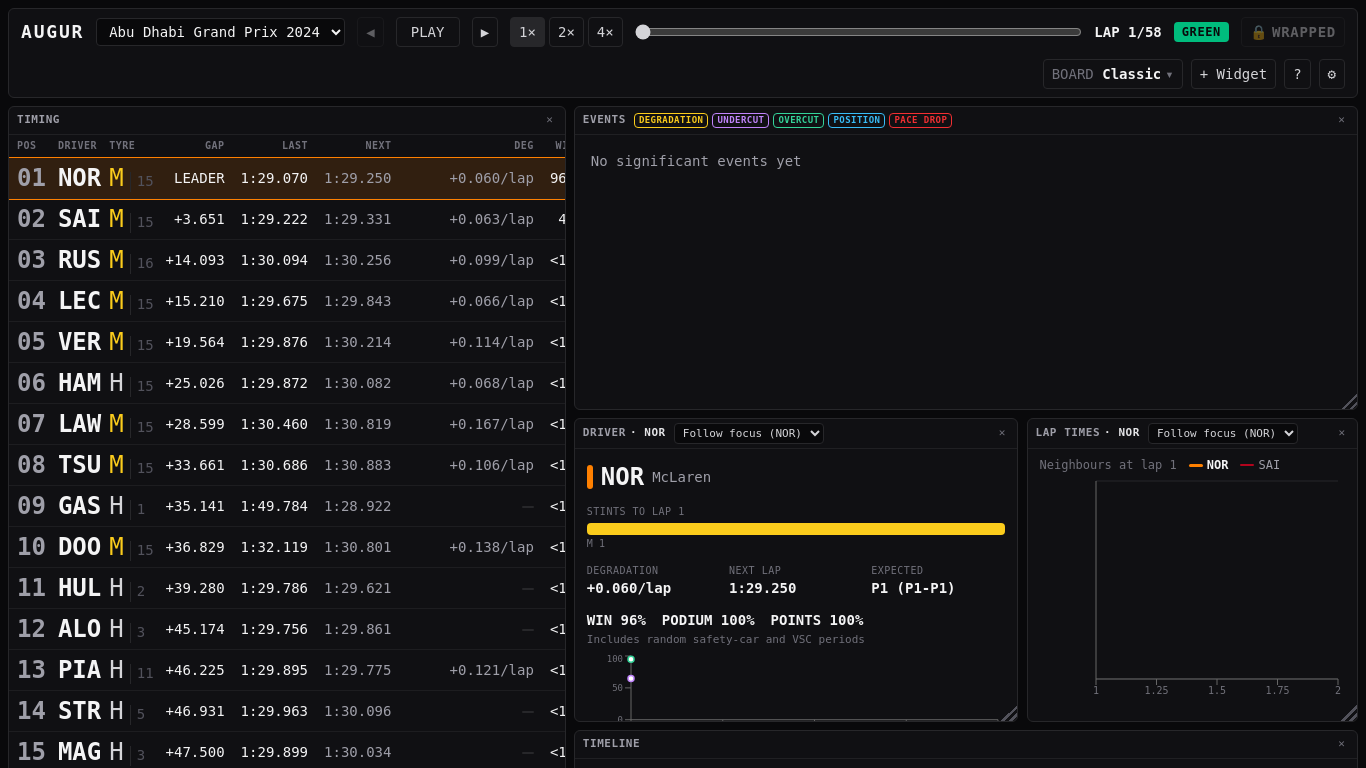
Race selection › resets to lap 1 and stops playback when another race is selected at lap 30
Set the slider named "Lap" to "30" at (862, 32), box [635, 24, 1082, 40]
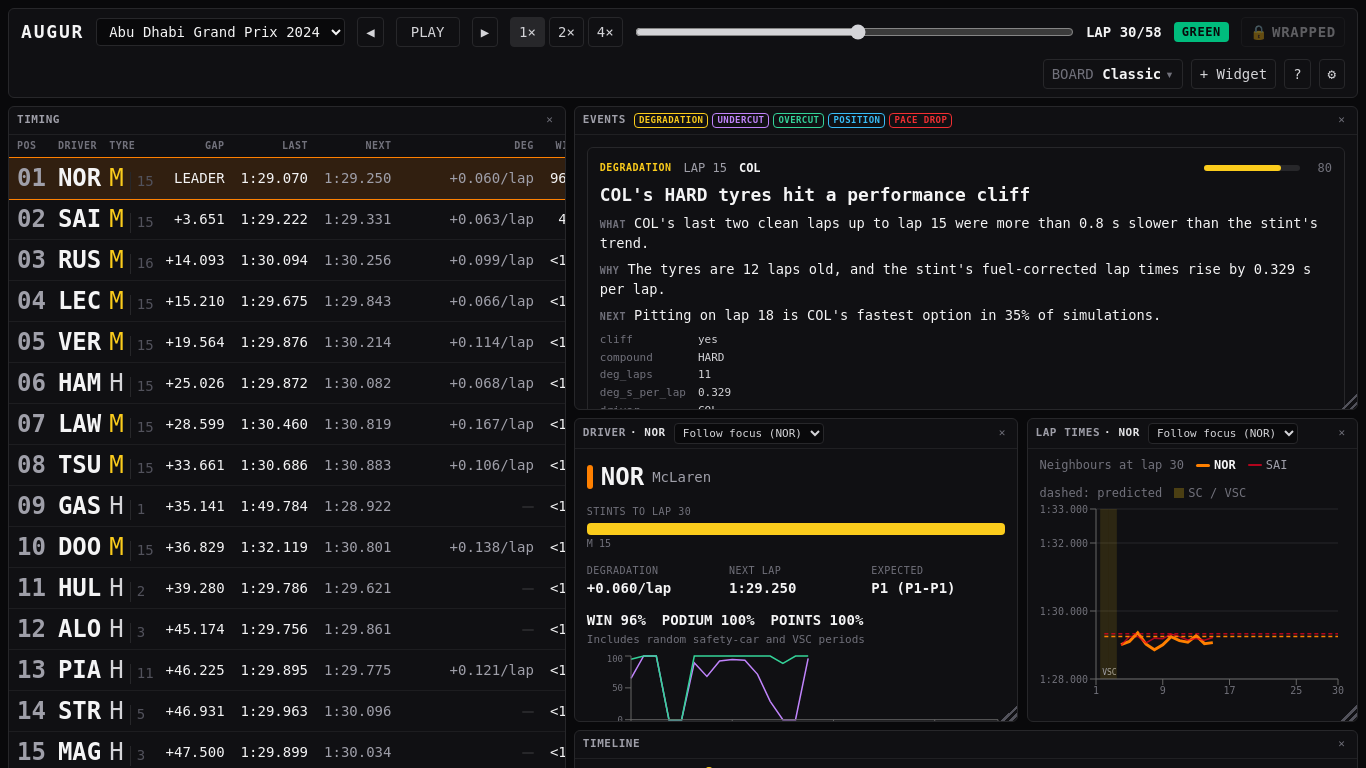
Click the button "PLAY".
click(428, 32)  # box [396, 17, 460, 47]
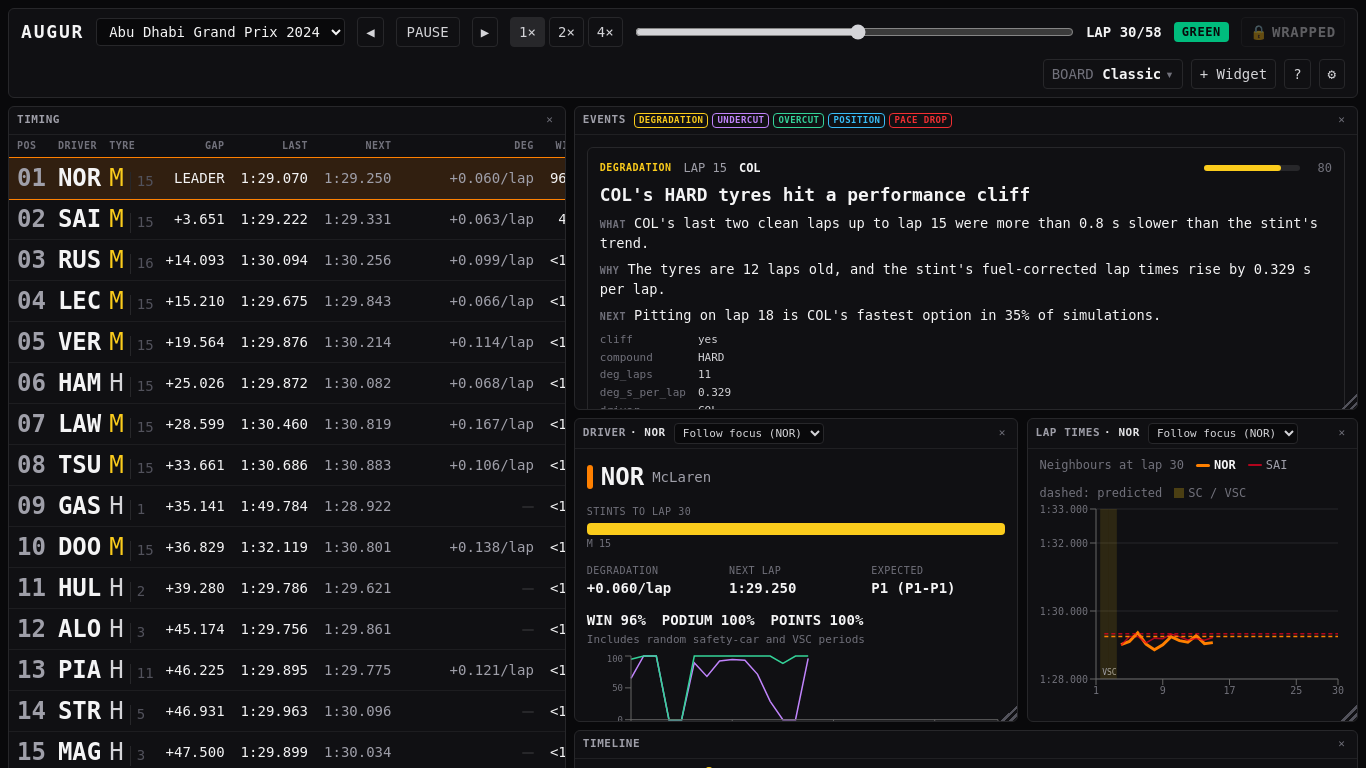
Select "Bahrain Grand Prix 2024" in the dropdown named "Race" at (221, 32), box [96, 18, 345, 46]
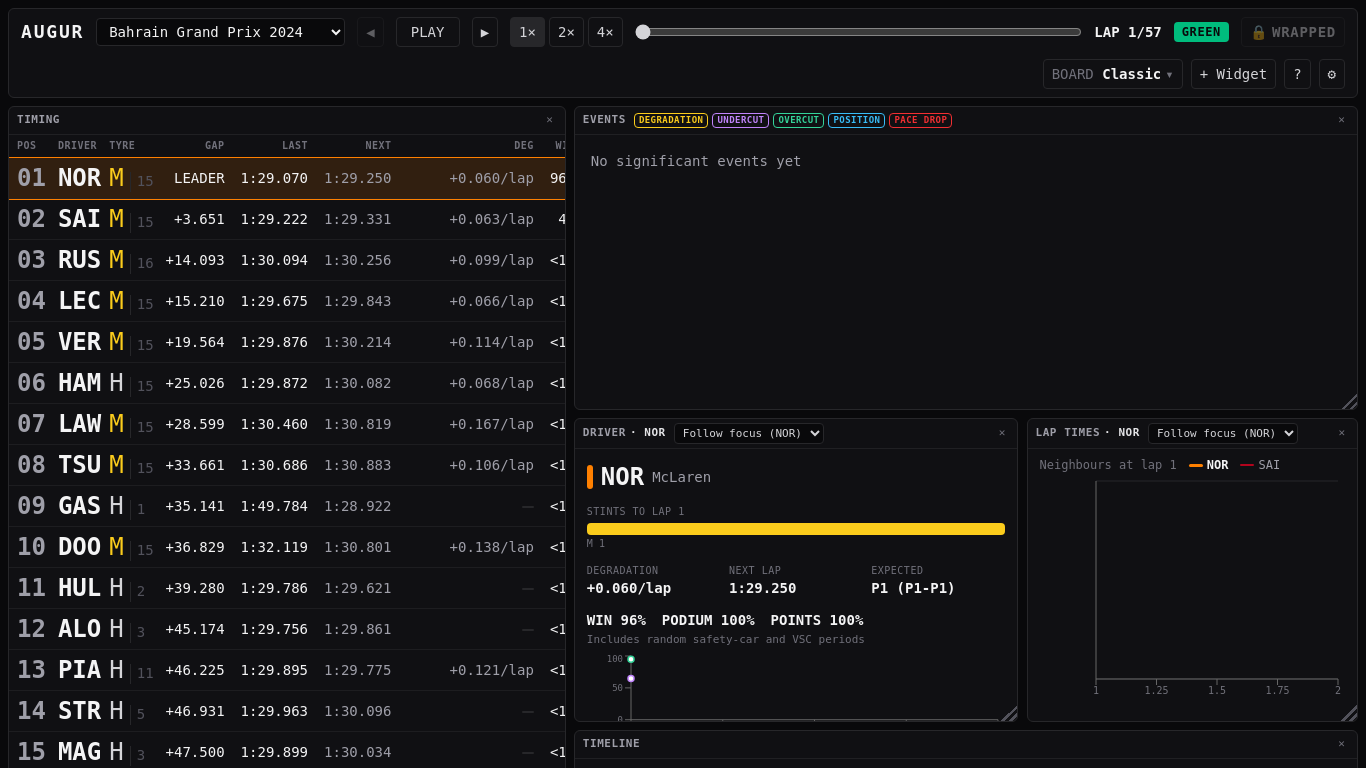
Expected: the text with test id "lap-count" reads "LAP 1/57", [1094, 22, 1162, 42]
